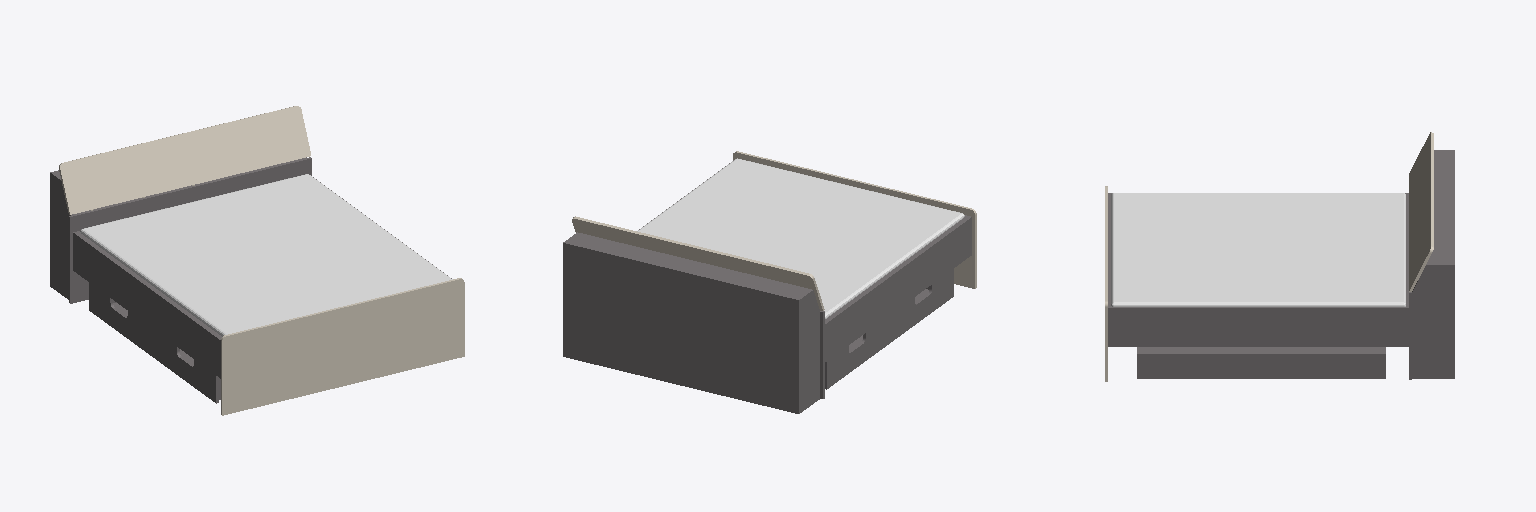
The model's file is 2pir_lozko2os_szczyt_pojemnik_180.obj.
3 views of the same model, side by side, from view 1: azimuth 30°, elevation 25°; view 2: azimuth 150°, elevation 25°; view 3: azimuth 270°, elevation 25° (orthographic).
Parts seen in each view (by area): view 1: ChamferBox01, Rectangle16, Rectangle15, Box02, Rectangle01, Line01; view 2: Line01, ChamferBox01, Box02, Rectangle15, Rectangle01, Rectangle16; view 3: ChamferBox01, Box02, Box01, Line01, Rectangle15, Rectangle16.
Part boxes in pixels (x1,y1,x2,y2): ChamferBox01: (80,174,452,336); Rectangle16: (221,278,464,415); Rectangle15: (59,106,311,303); Box02: (73,177,451,378); Rectangle01: (89,283,218,403); Line01: (50,157,306,299); Line01: (563,232,819,413); ChamferBox01: (637,158,964,318); Box02: (639,160,971,361); Rectangle15: (572,216,824,398); Rectangle01: (825,269,953,389); Rectangle16: (733,151,976,288); ChamferBox01: (1111,193,1405,306); Box02: (1108,193,1408,346); Box01: (1137,347,1385,378); Line01: (1412,150,1454,378); Rectangle15: (1409,132,1433,379); Rectangle16: (1105,186,1107,381).
Bounding box in the file's own units: 185 × 96.98 × 231.